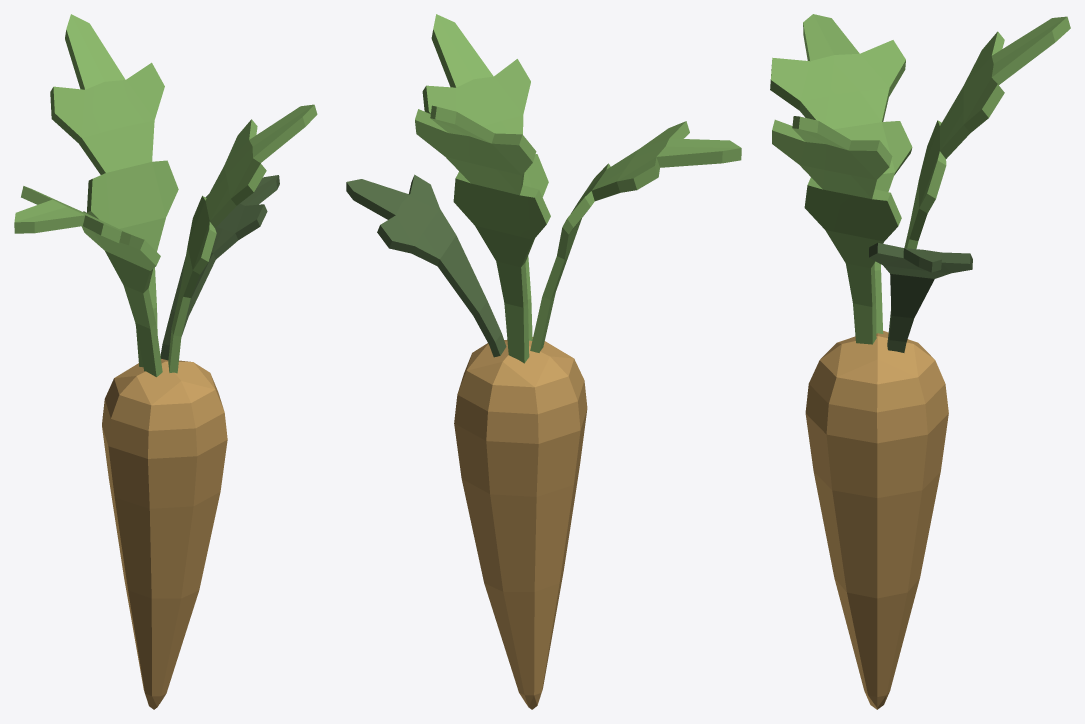
File: carrot_4.glb
3 renders of one model, left to right at view 1: azimuth 30°, elevation 25°; view 2: azimuth 150°, elevation 25°; view 3: azimuth 270°, elevation 25°, orthographic. The views are drawn at different scales.
Parts seen in each view (by area): view 1: Carrot_4; view 2: Carrot_4; view 3: Carrot_4.
Part boxes in pixels (x1,y1,x2,y2): Carrot_4: [14, 14, 317, 709]; Carrot_4: [346, 14, 741, 709]; Carrot_4: [770, 14, 1070, 709].
Size of the model in its own units: 0.6765 by 1.28 by 0.5016.
